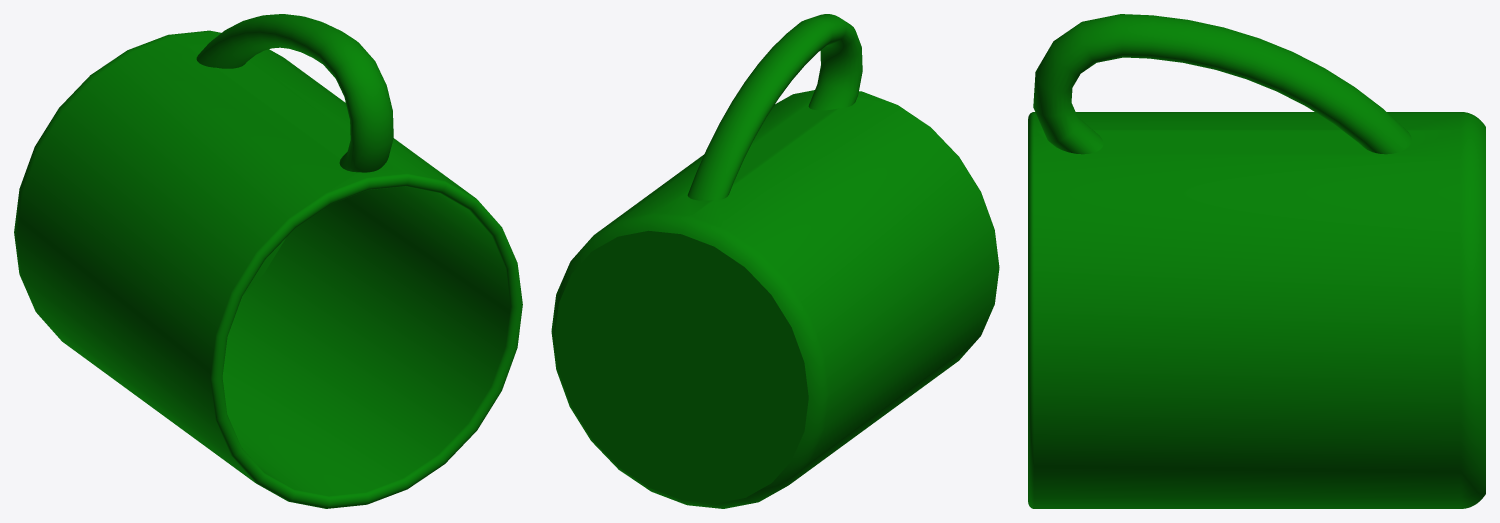
3 views of the same model, side by side, from view 1: azimuth 30°, elevation 25°; view 2: azimuth 150°, elevation 25°; view 3: azimuth 270°, elevation 25° (orthographic). The views are drawn at different scales.
Bounding box in the file's own units: 0.4947 × 0.6575 × 0.5683.
